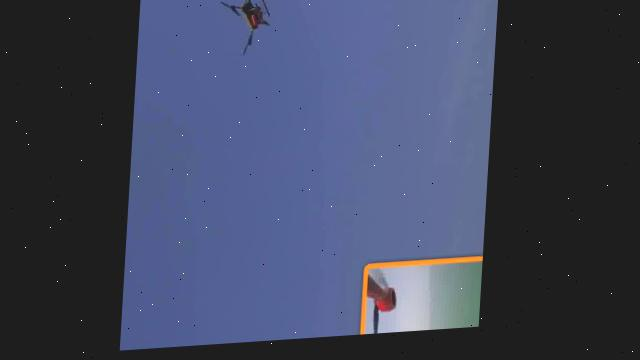drone: (205, 0, 292, 68)
